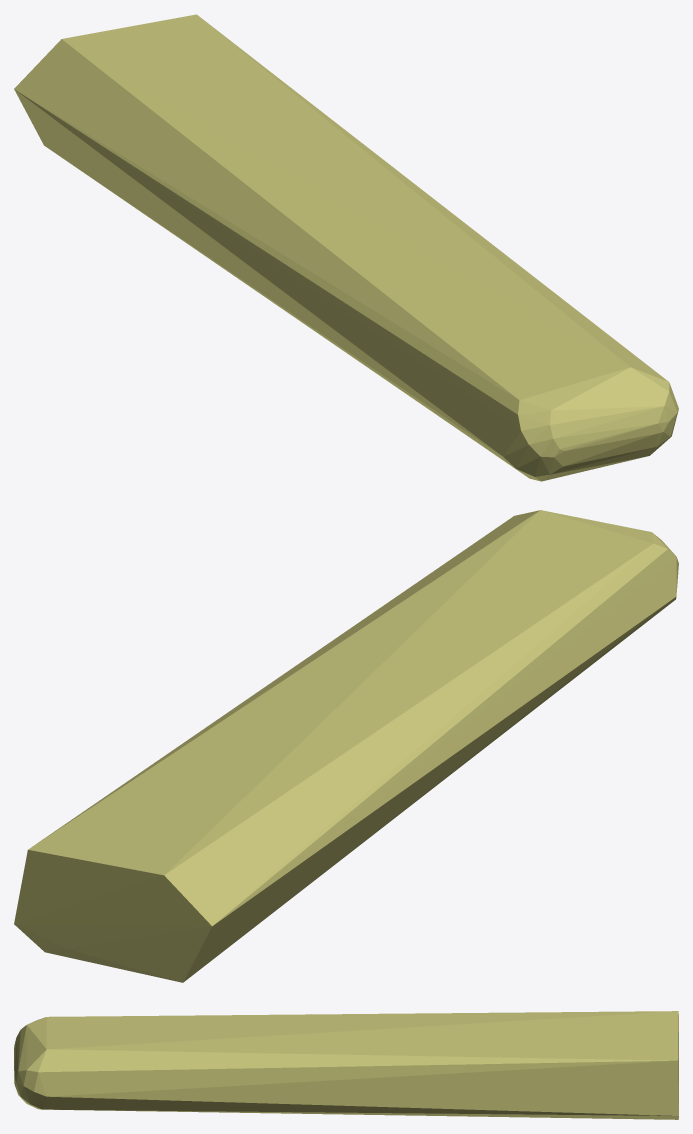
File: medicine_c05.glb
The picture shows the model from 3 angles, top to bottom: view 1: azimuth 30°, elevation 25°; view 2: azimuth 150°, elevation 25°; view 3: azimuth 270°, elevation 25°; orthographic projection. The views are drawn at different scales.
Visible parts, largest first — view 1: geometry_0; view 2: geometry_0; view 3: geometry_0.
Part boxes in pixels (bbox=[...]): geometry_0: bbox=[14, 14, 678, 481]; geometry_0: bbox=[14, 510, 678, 982]; geometry_0: bbox=[14, 1011, 678, 1119].
Size of the model in its own units: 0.1094 by 0.0559 by 0.48.
